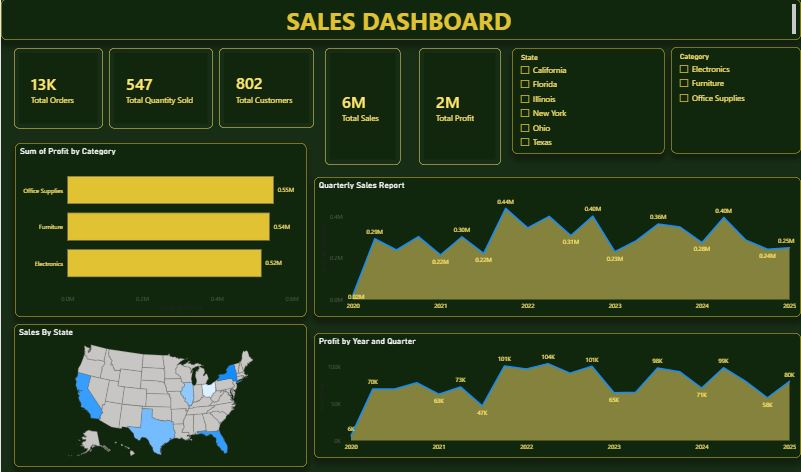

Layout of this report page (visuals, bound fields, positions):
{"tool":"powerbi","page":{"name":"Page 2","canvas":[1600,949],"ordinal":0},"visuals":[{"type":"textbox","box":[0,0,1600,81.7],"z":0},{"type":"cardVisual","fields":{"Data":["Sum(Sales Dataset.Amount)"]},"box":[648.8,98.8,151.2,233.8],"z":1000},{"type":"cardVisual","fields":{"Data":["Sum(Sales Dataset.Profit)"]},"box":[835,98.8,163.8,233.8],"z":2000},{"type":"cardVisual","fields":{"Data":["Count(Sales Dataset.Order ID)"]},"box":[216.2,98.8,207.5,161.2],"z":3000},{"type":"cardVisual","fields":{"Data":["Sum(Sales Dataset.Quantity)"]},"box":[25,98.8,177.5,161.2],"z":4000},{"type":"cardVisual","fields":{"Data":["Count(Sales Dataset.CustomerName)"]},"box":[435,98.8,190,160],"z":5000},{"type":"lineChart","title":"Quarterly Sales Report","fields":{"Category":["Sales Dataset.Order Date.Variation.Date Hierarchy.Year","Sales Dataset.Order Date.Variation.Date Hierarchy.Quarter","Sales Dataset.Order Date.Variation.Date Hierarchy.Month","Sales Dataset.Order Date.Variation.Date Hierarchy.Day"],"Y":["Sum(Sales Dataset.Amount)"]},"box":[626,356,974,280],"z":6000},{"type":"lineChart","title":"Profit by Year and Quarter","fields":{"Category":["Sales Dataset.Year-Month.Variation.Date Hierarchy.Year","Sales Dataset.Year-Month.Variation.Date Hierarchy.Quarter","Sales Dataset.Year-Month.Variation.Date Hierarchy.Month","Sales Dataset.Year-Month.Variation.Date Hierarchy.Day"],"Y":["Sum(Sales Dataset.Profit)"]},"box":[626,668,974,250],"z":7000},{"type":"clusteredBarChart","fields":{"Y":["Sum(Sales Dataset.Profit)"],"Category":["Sales Dataset.Category"]},"box":[28.8,287.5,582.5,347.5],"z":8000},{"type":"shapeMap","title":"Sales By State","fields":{"Category":["Sales Dataset.State"],"Value":["Sum(Sales Dataset.Amount)"]},"box":[25,650,586.2,286.2],"z":9000},{"type":"slicer","fields":{"Values":["Sales Dataset.State"]},"box":[1021.7,98.3,305,211.7],"z":10000},{"type":"slicer","fields":{"Values":["Sales Dataset.Category"]},"box":[1340,96.7,260,213.3],"z":11000}]}

Visuals, with their boxes in screenshot pixels (x1, y1, x2, y2), scaled from the page's 1600x949 canvas onto the 801x472 screenshot:
textbox: box(0, 0, 800, 41)
cardVisual - Sum(Sales Dataset.Amount): box(325, 49, 400, 165)
cardVisual - Sum(Sales Dataset.Profit): box(418, 49, 500, 165)
cardVisual - Count(Sales Dataset.Order ID): box(108, 49, 212, 129)
cardVisual - Sum(Sales Dataset.Quantity): box(13, 49, 101, 129)
cardVisual - Count(Sales Dataset.CustomerName): box(218, 49, 313, 129)
"Quarterly Sales Report" lineChart: box(313, 177, 800, 316)
"Profit by Year and Quarter" lineChart: box(313, 332, 800, 457)
clusteredBarChart - Sum(Sales Dataset.Profit) x Sales Dataset.Category: box(14, 143, 306, 316)
"Sales By State" shapeMap: box(13, 323, 306, 466)
slicer - Sales Dataset.State: box(511, 49, 664, 154)
slicer - Sales Dataset.Category: box(671, 48, 800, 154)
